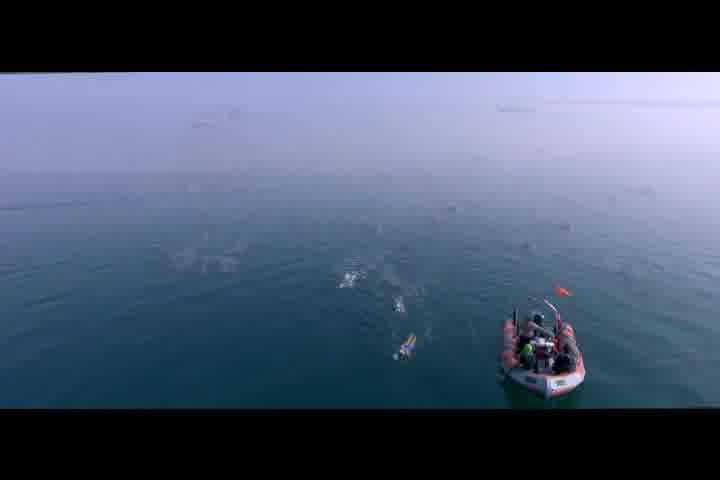human: (394, 332, 418, 363)
